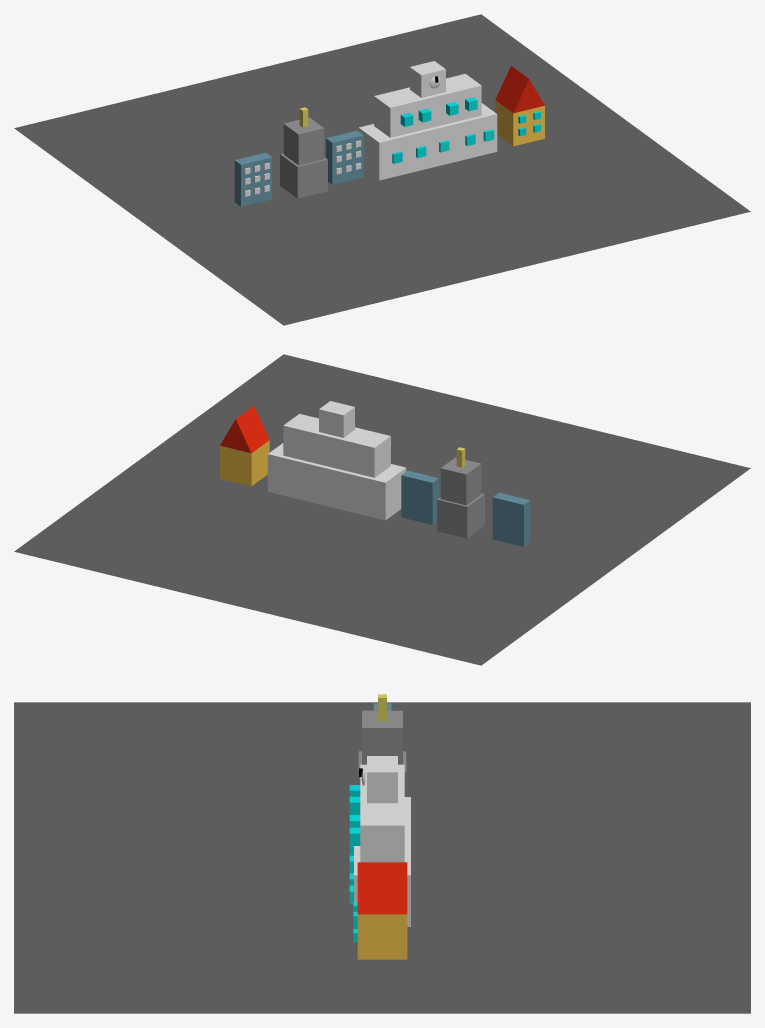
The model's file is mati.fbx.
3 renders of one model, top to bottom at view 1: azimuth 30°, elevation 25°; view 2: azimuth 150°, elevation 25°; view 3: azimuth 270°, elevation 25°, orthographic. The views are drawn at different scales.
Parts seen in each view (by area): view 1: 平面, 立方体.010, 立方体.009, 立方体.030, Cube, Cube.001; view 2: 平面, 立方体.010, 立方体.009, 立方体.030, Cube, Cube.001; view 3: 平面, 立方体.010, 立方体.030, 立方体.009.
Boxes of the visible parts, x1,y1,x2,y2 form: 平面: [14, 14, 750, 325]; 立方体.010: [358, 61, 497, 180]; 立方体.009: [280, 107, 327, 198]; 立方体.030: [495, 66, 544, 146]; Cube: [234, 152, 272, 206]; Cube.001: [326, 130, 363, 184]; 平面: [14, 354, 750, 665]; 立方体.010: [267, 401, 406, 520]; 立方体.009: [437, 447, 484, 538]; 立方体.030: [220, 406, 269, 486]; Cube: [492, 492, 530, 546]; Cube.001: [401, 470, 438, 524]; 平面: [14, 702, 750, 1013]; 立方体.010: [354, 756, 410, 926]; 立方体.030: [357, 862, 407, 959]; 立方体.009: [358, 694, 406, 796].
Size of the model in its own units: 8392 by 1558 by 8392.
